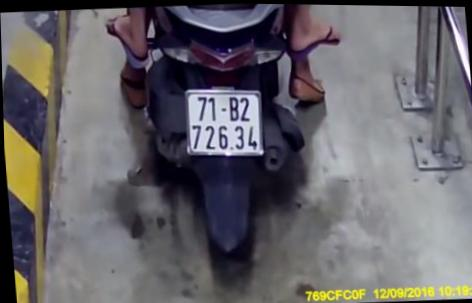LP: (181, 84, 265, 162)
